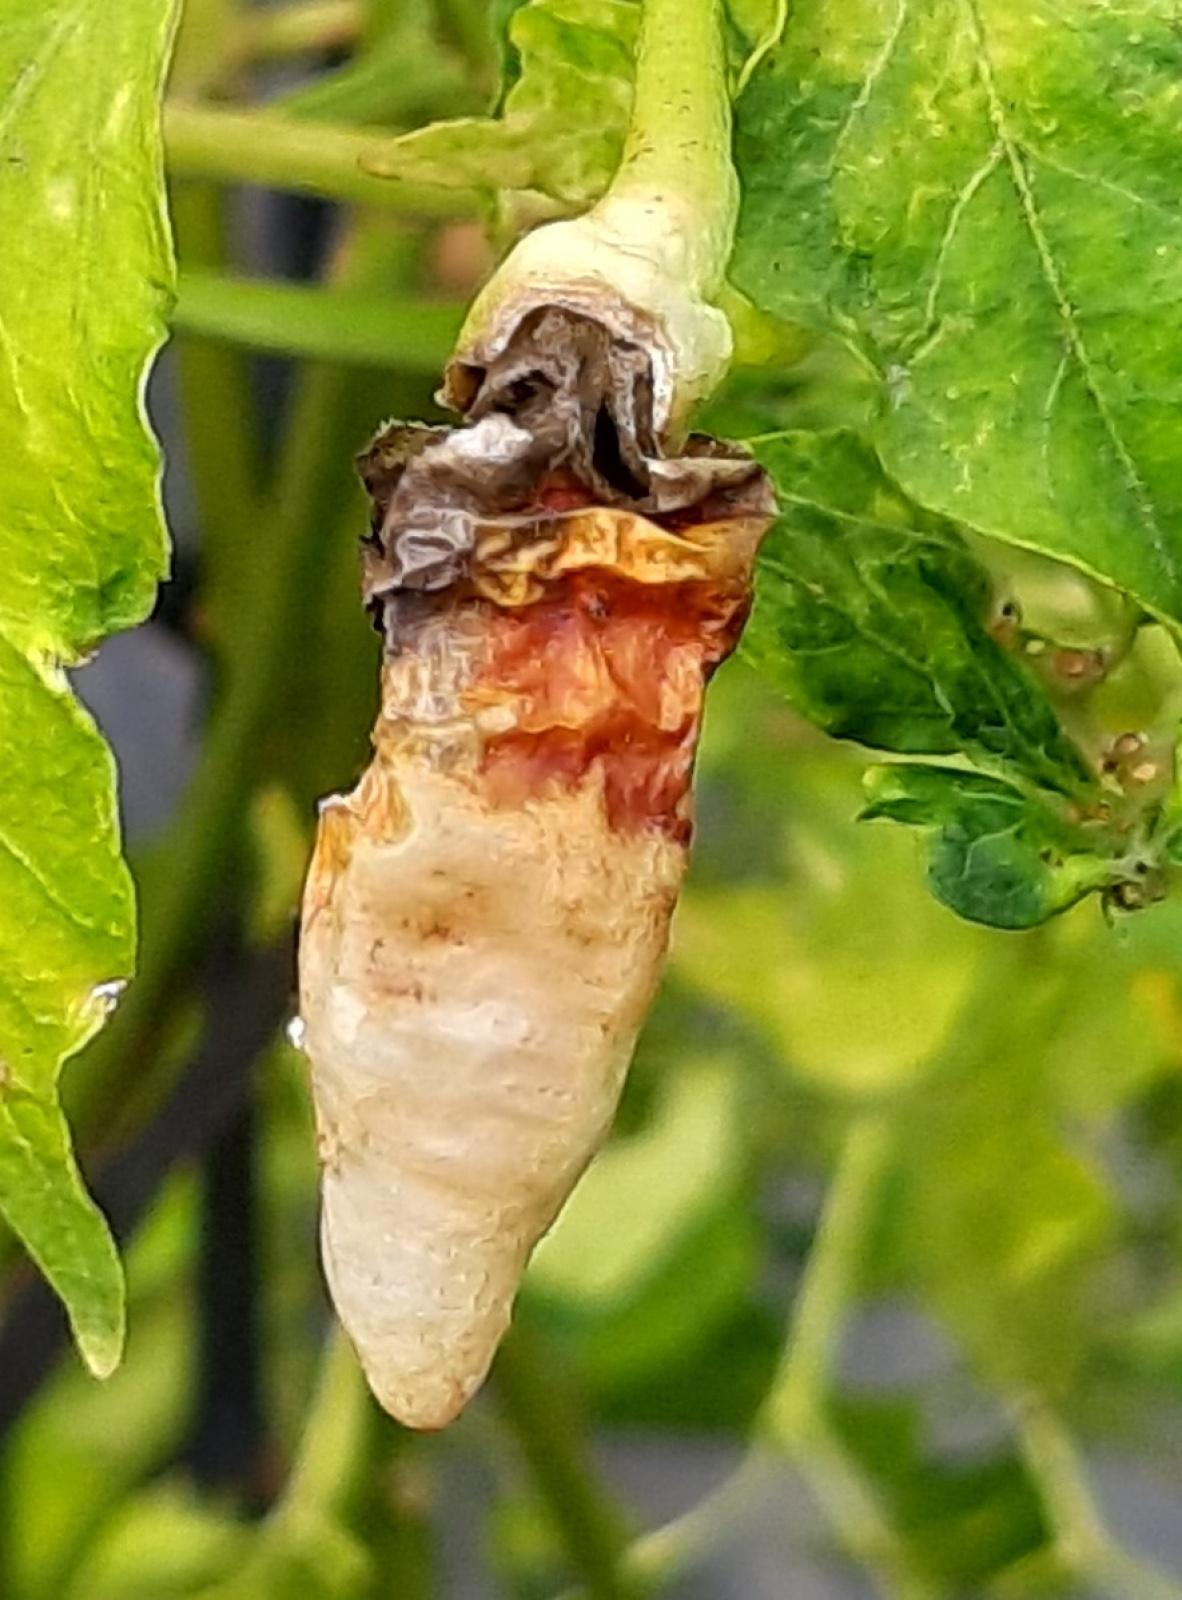antraknosa: (305, 242, 778, 1431)
